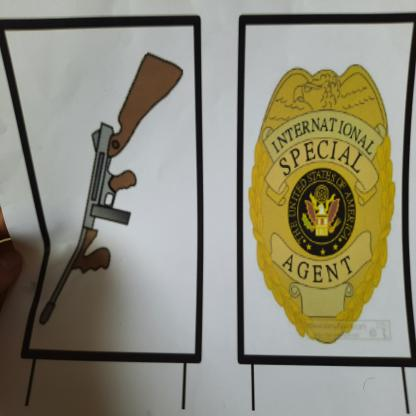Bootlegger: (29, 42, 189, 345)
G-man: (245, 61, 401, 355)
